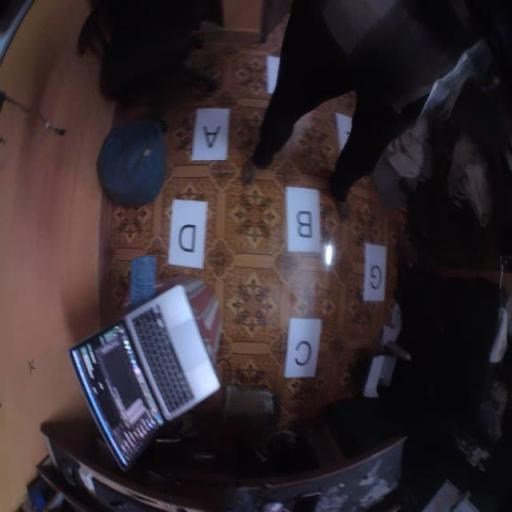A: (192, 108, 230, 160)
B: (286, 186, 320, 252)
C: (285, 318, 322, 377)
D: (169, 199, 208, 269)
G: (363, 243, 387, 301)
